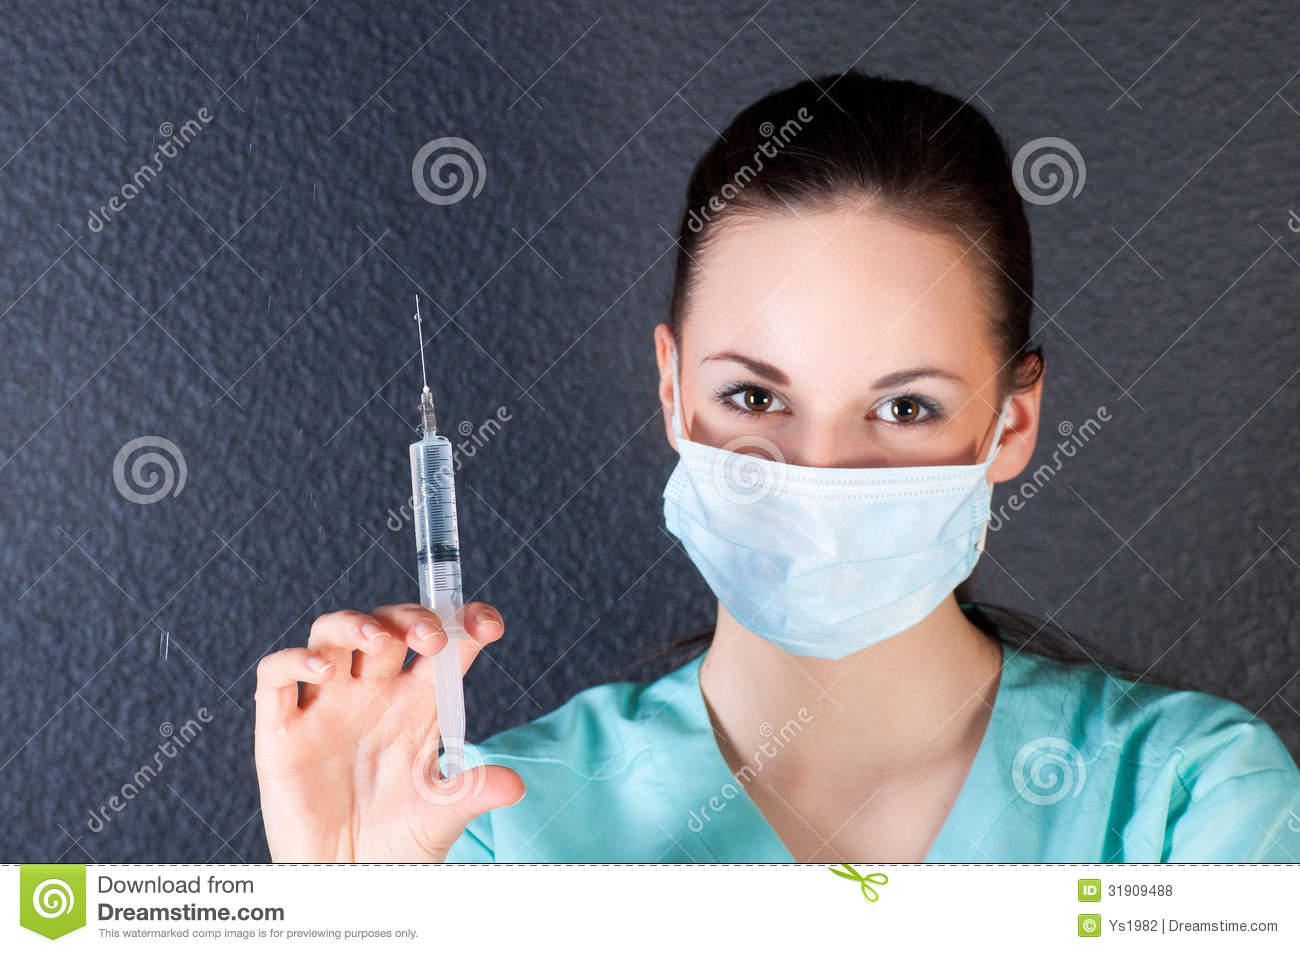mask: (660, 440, 991, 654)
